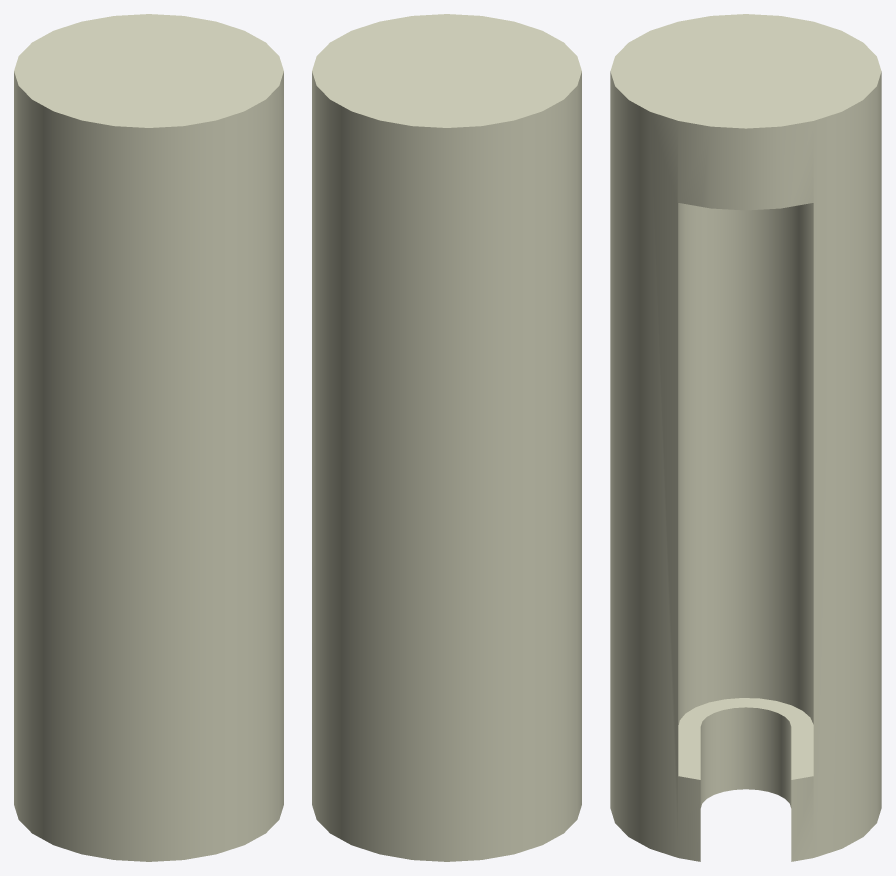
File: 2.5-3cc_syringe_hammer_casing.dae
3 renders of one model, left to right at view 1: azimuth 30°, elevation 25°; view 2: azimuth 150°, elevation 25°; view 3: azimuth 270°, elevation 25°, orthographic.
Parts seen in each view (by area): view 1: SketchUp; view 2: SketchUp; view 3: SketchUp.
Part boxes in pixels (x1=…): SketchUp: x1=14, y1=14, x2=283, y2=861; SketchUp: x1=312, y1=14, x2=581, y2=861; SketchUp: x1=610, y1=14, x2=881, y2=861.
Bounding box in the file's own units: 1.18 × 1.18 × 3.54.
